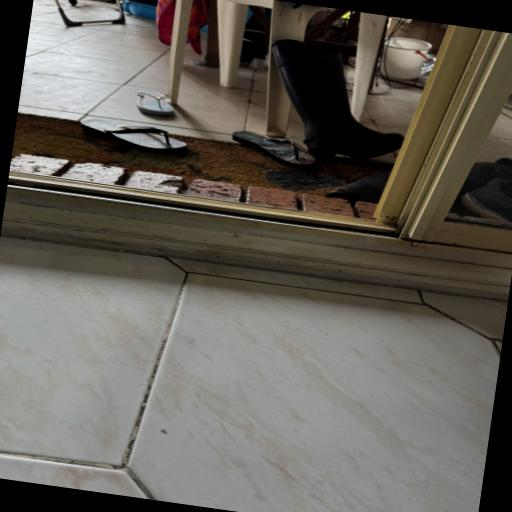step: (1, 172, 414, 278)
